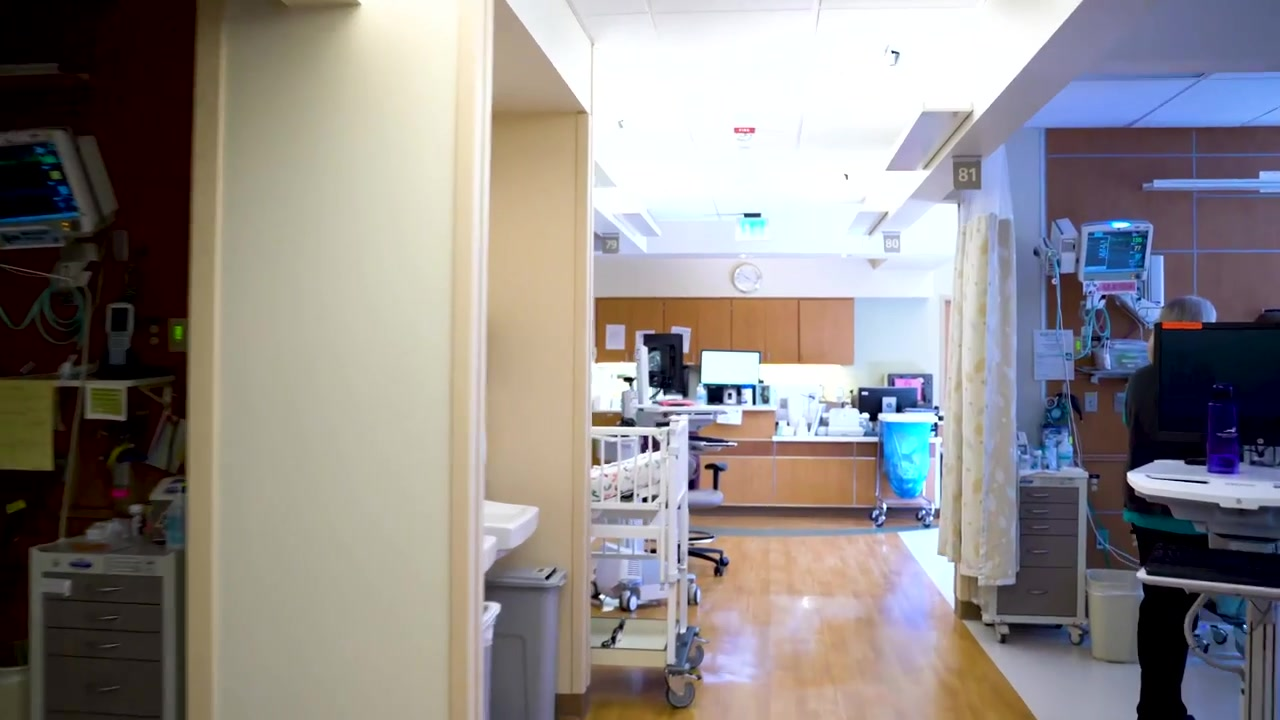bedside_monitor: (1, 129, 92, 245), (1078, 220, 1154, 285)
cabinet: (597, 297, 854, 364)
chair: (686, 455, 724, 576)
computer: (1154, 323, 1280, 446), (642, 331, 688, 397), (698, 349, 762, 388), (857, 386, 918, 422)
curtain: (935, 209, 1019, 591)
dispenser: (161, 482, 187, 552), (1056, 430, 1075, 467)
handle: (90, 680, 122, 698), (85, 638, 125, 652), (87, 611, 121, 625), (90, 582, 125, 595), (1023, 506, 1052, 516), (1024, 546, 1052, 556), (1025, 522, 1052, 532), (1027, 489, 1051, 500), (1025, 586, 1050, 596)
hospital_bed: (591, 411, 711, 710)
medical_drawer: (30, 533, 186, 720), (980, 467, 1088, 647)
sink: (483, 501, 540, 549)
staff: (1128, 296, 1231, 720)
utility_cart: (871, 411, 937, 523)
waste_bin: (485, 565, 569, 720), (1086, 567, 1145, 664), (877, 411, 930, 493), (478, 600, 501, 720)
